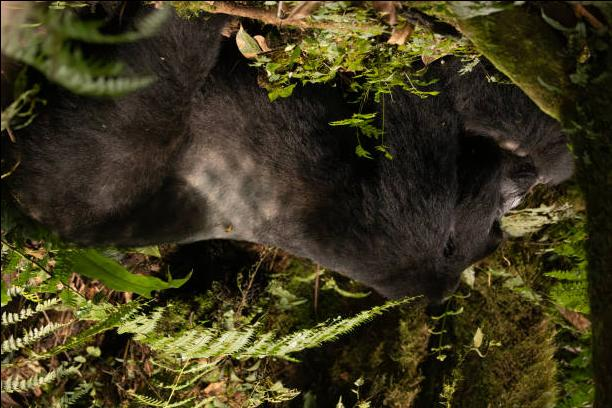goriile_montagne: (0, 0, 572, 318)
